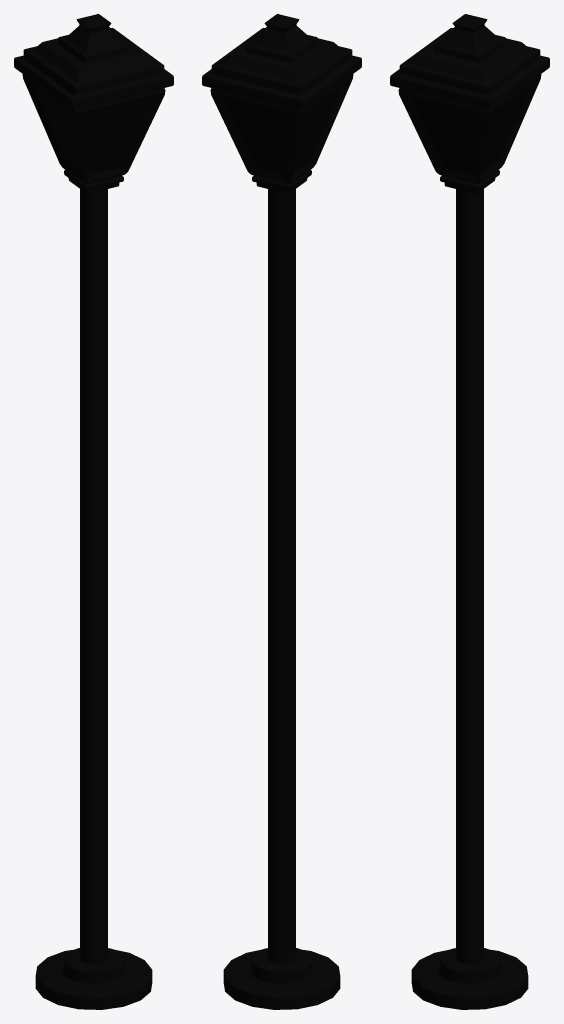
File: lamp.glb
3 renders of one model, left to right at view 1: azimuth 30°, elevation 25°; view 2: azimuth 150°, elevation 25°; view 3: azimuth 330°, elevation 25°, orthographic.
Parts seen in each view (by area): view 1: Classic Single Street Lamp; view 2: Classic Single Street Lamp; view 3: Classic Single Street Lamp.
Part boxes in pixels (x1=…): Classic Single Street Lamp: x1=14, y1=14, x2=173, y2=1009; Classic Single Street Lamp: x1=202, y1=14, x2=361, y2=1009; Classic Single Street Lamp: x1=390, y1=14, x2=549, y2=1009.
Size of the model in its own units: 0.2 by 1.8 by 0.2.
Materials: 1 (1 with a texture image).
